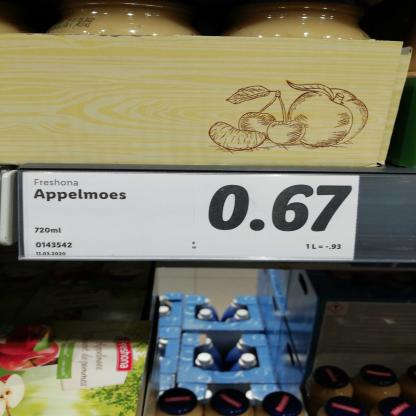prtg: (24, 173, 362, 262)
